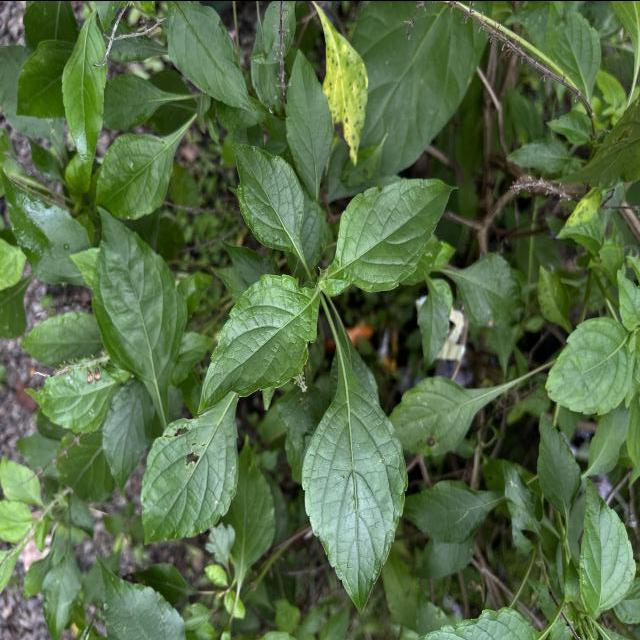Ocimum gratissimum: (298, 340, 412, 617), (88, 200, 192, 420), (192, 270, 322, 414), (326, 174, 462, 296), (138, 395, 242, 550), (164, 1, 262, 114), (228, 138, 308, 268), (542, 312, 636, 418), (576, 472, 639, 623), (57, 12, 111, 182), (282, 43, 336, 201)
